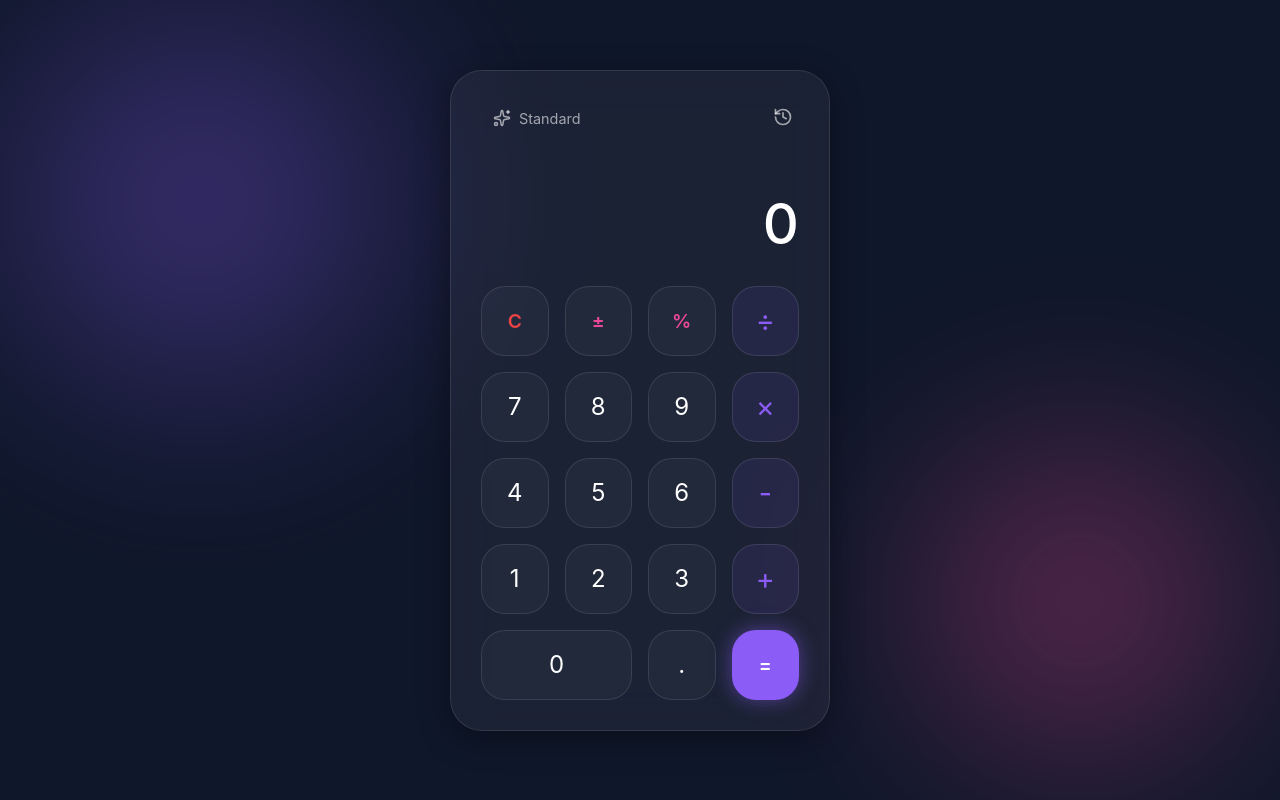
Calculator App › performs addition
Click the button "1": (515, 578) [481,544,548,614]
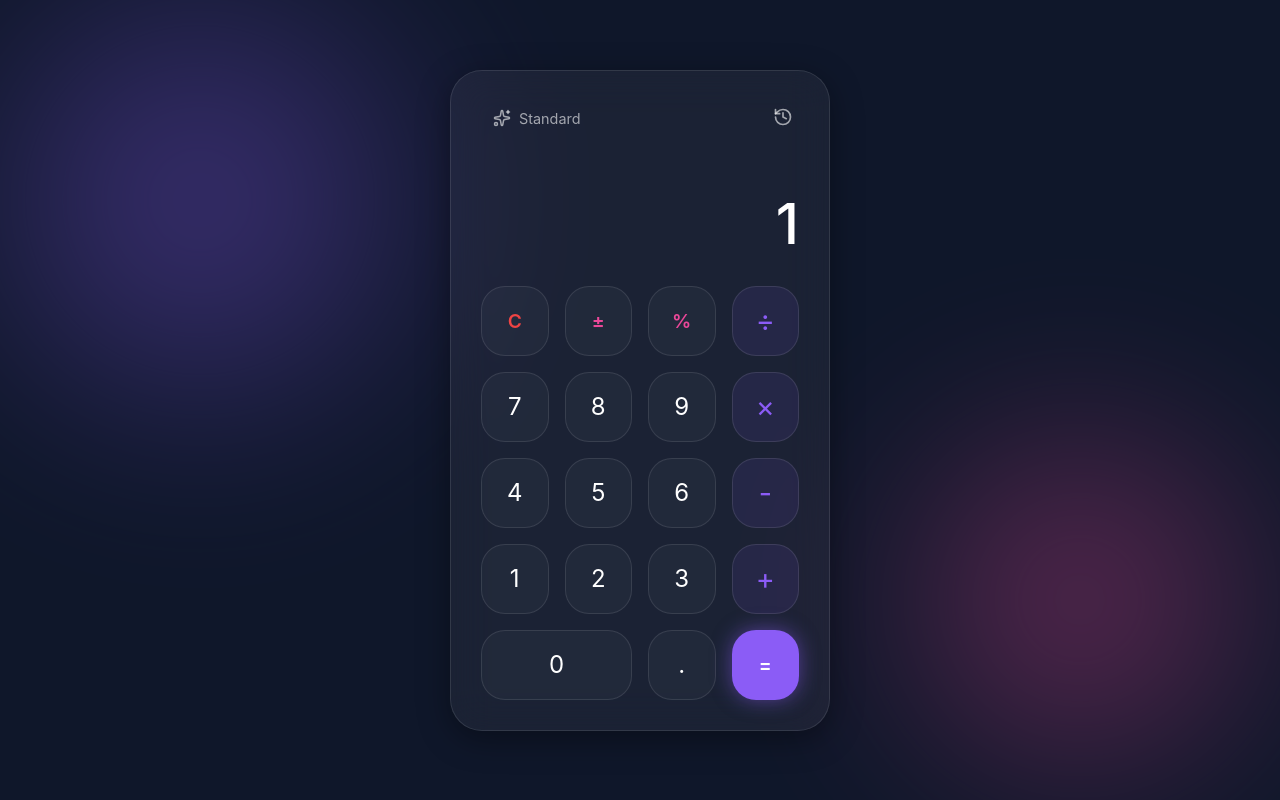
Click the button "+": (765, 578) [732,544,799,614]
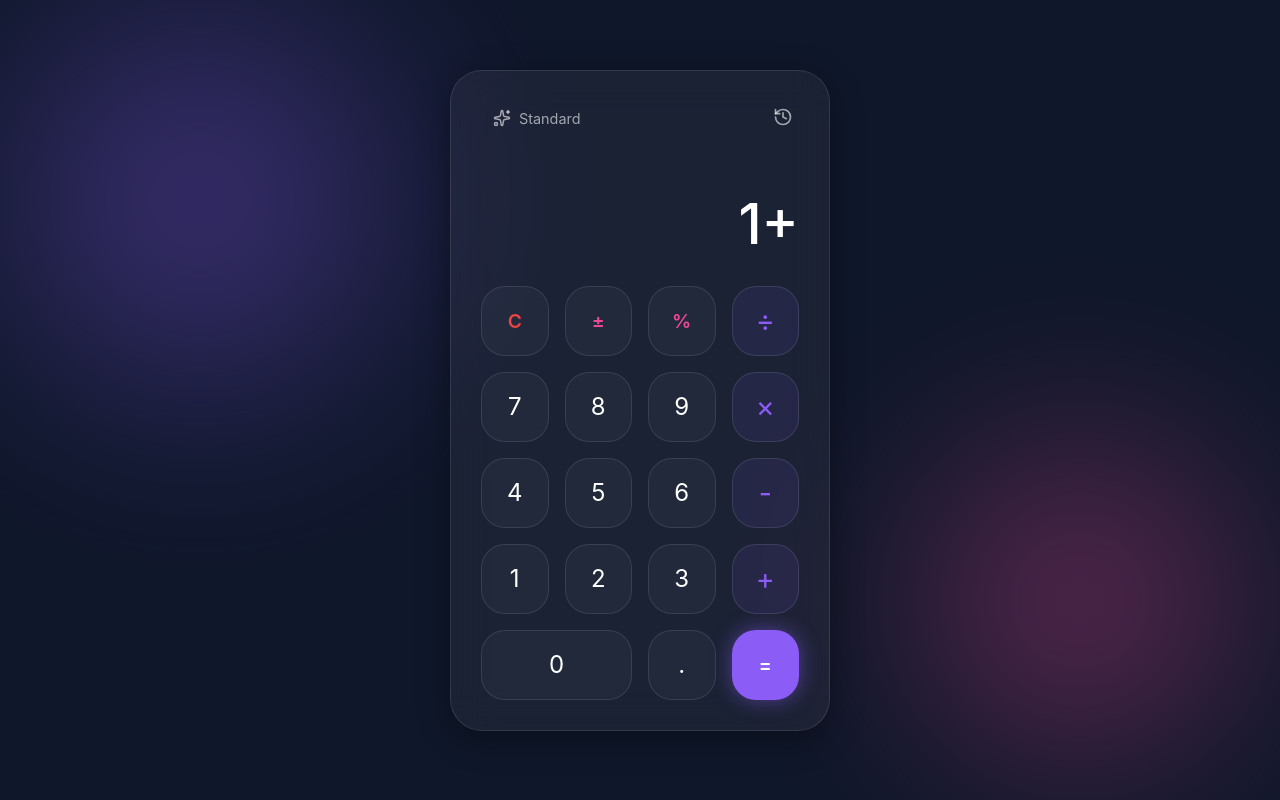
Click the button "2": (598, 578) [564,544,632,614]
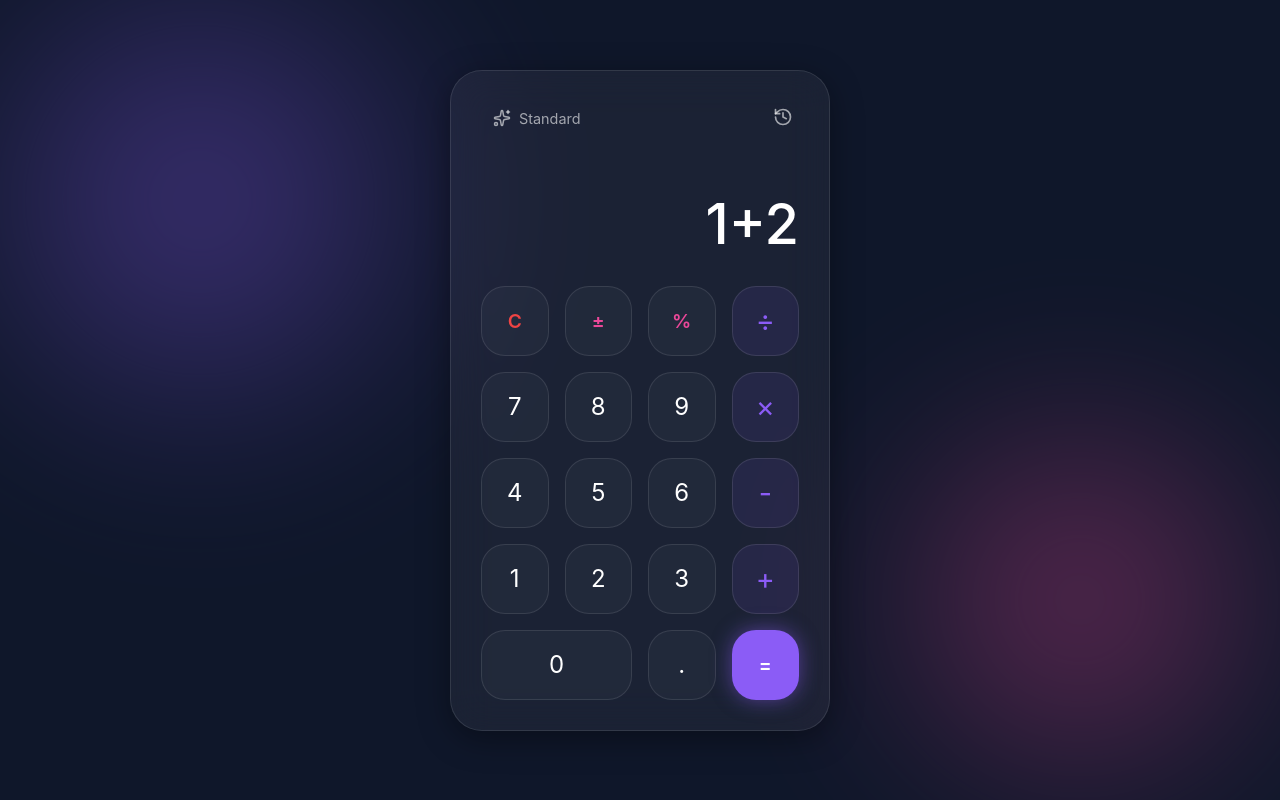
Click the button "=": (765, 664) [732,630,799,700]
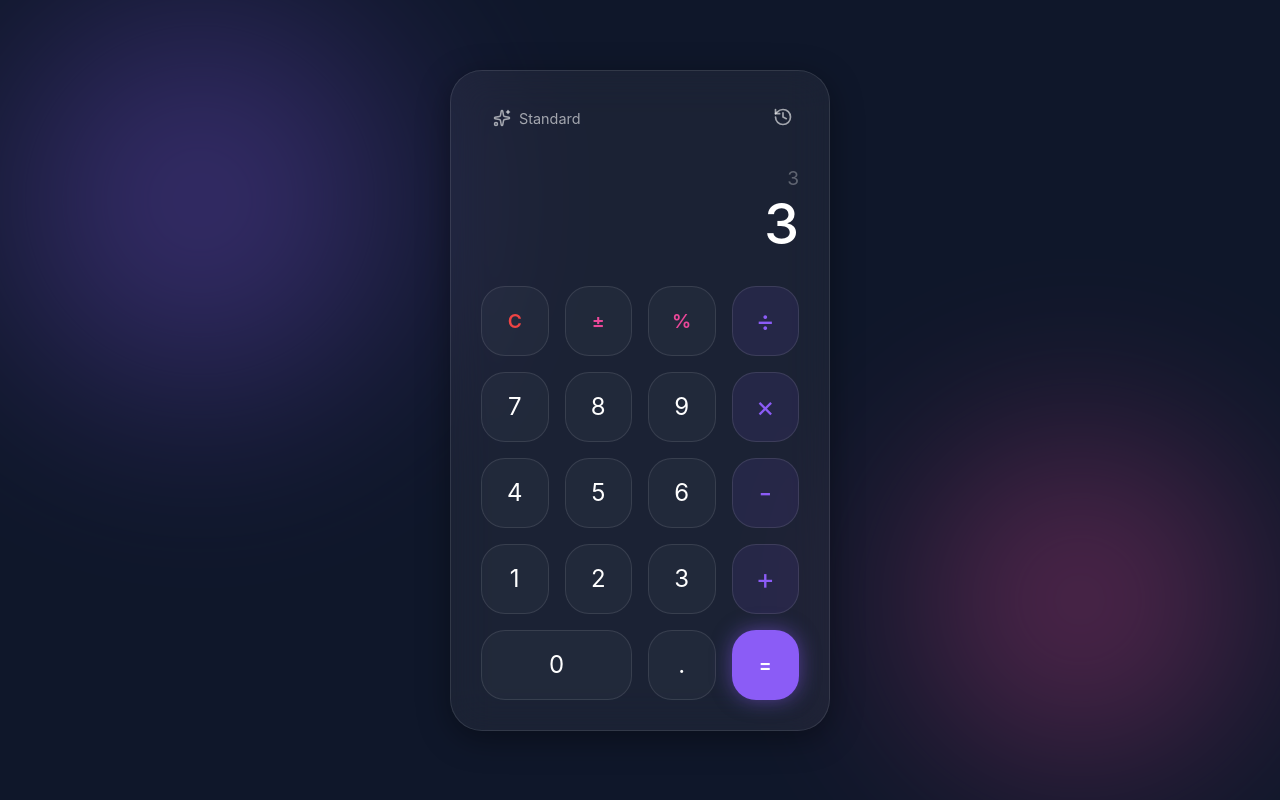
expect the text with test id "display" reads "3": met, box [764,190,799,258]
